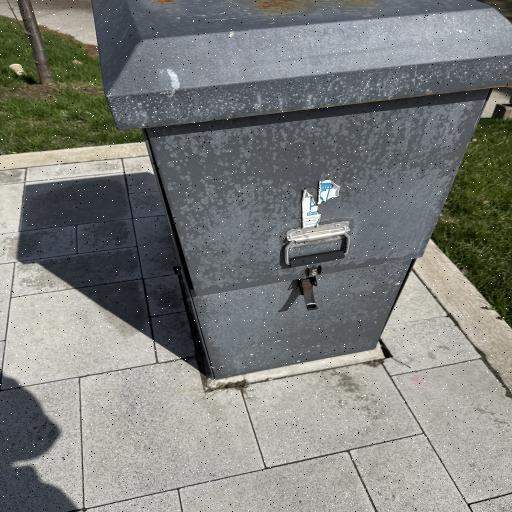Electrical Box: (88, 0, 511, 378)
